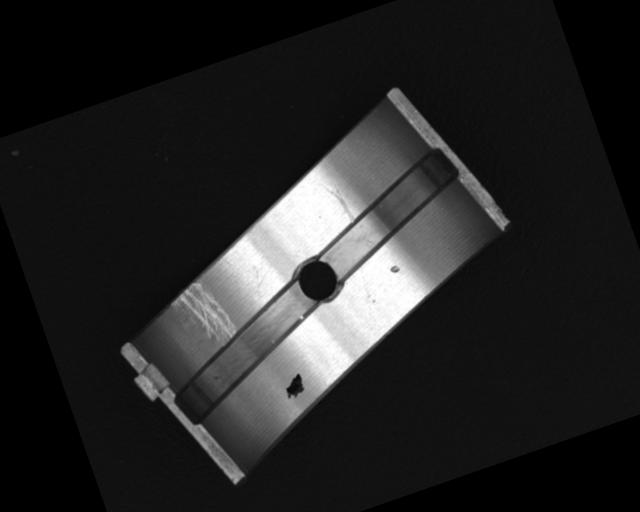blot: (279, 371, 309, 401)
bruise: (389, 264, 401, 275)
gap: (151, 281, 340, 428), (296, 146, 478, 281)
hole: (292, 252, 345, 308)
nick: (322, 178, 356, 227)
scratch: (169, 275, 238, 353)
